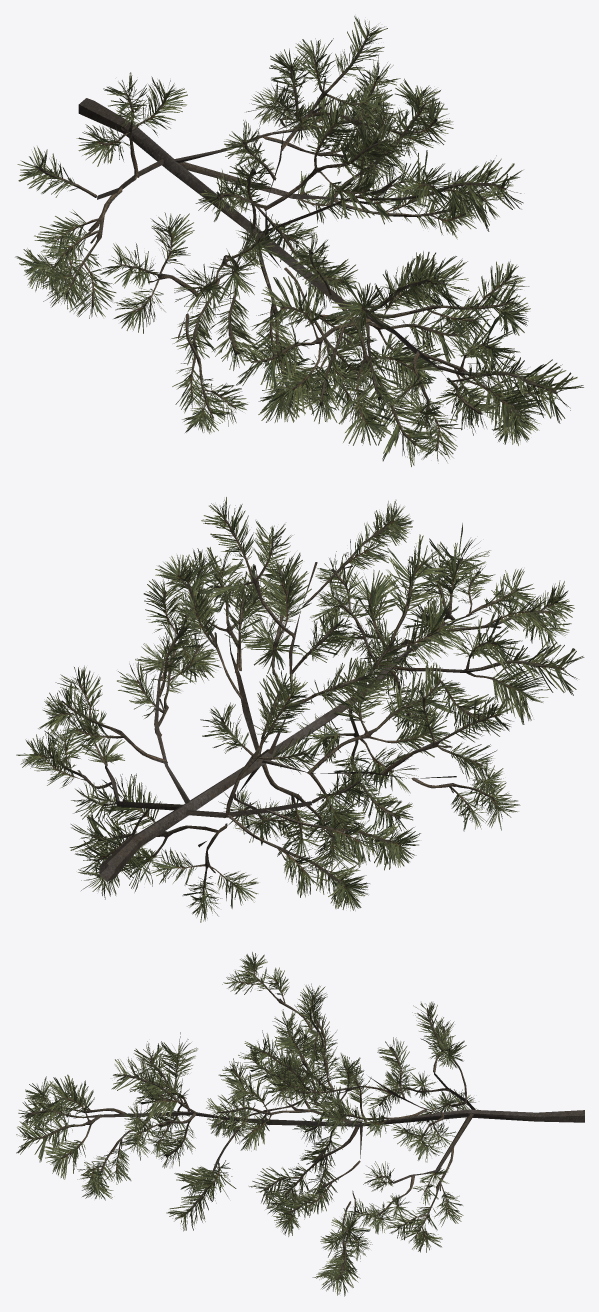
The picture shows the model from 3 angles, top to bottom: view 1: azimuth 30°, elevation 25°; view 2: azimuth 150°, elevation 25°; view 3: azimuth 270°, elevation 25°; orthographic projection. The views are drawn at different scales.
Parts seen in each view (by area): view 1: nodes[0]; view 2: nodes[0]; view 3: nodes[0].
Boxes of the visible parts, left/top/right/bottom form: nodes[0]: left=15, top=16, right=583, bottom=466; nodes[0]: left=16, top=497, right=584, bottom=922; nodes[0]: left=16, top=952, right=584, bottom=1296.
Bounding box in the file's own units: 0.7877 × 0.7267 × 1.3.
Materials: 2 (2 with a texture image).
